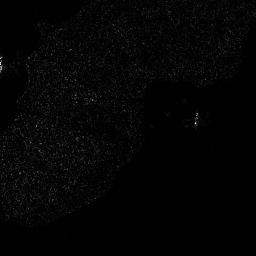ship: (193, 111, 199, 124)
